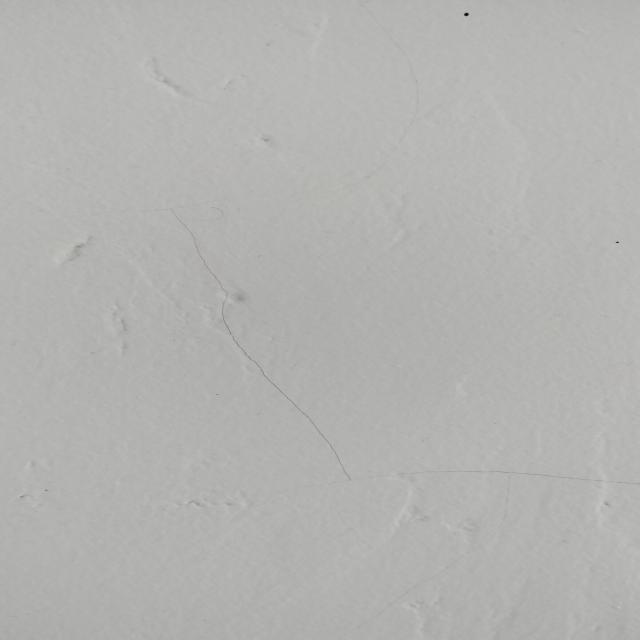Crack: (162, 206, 640, 488)
